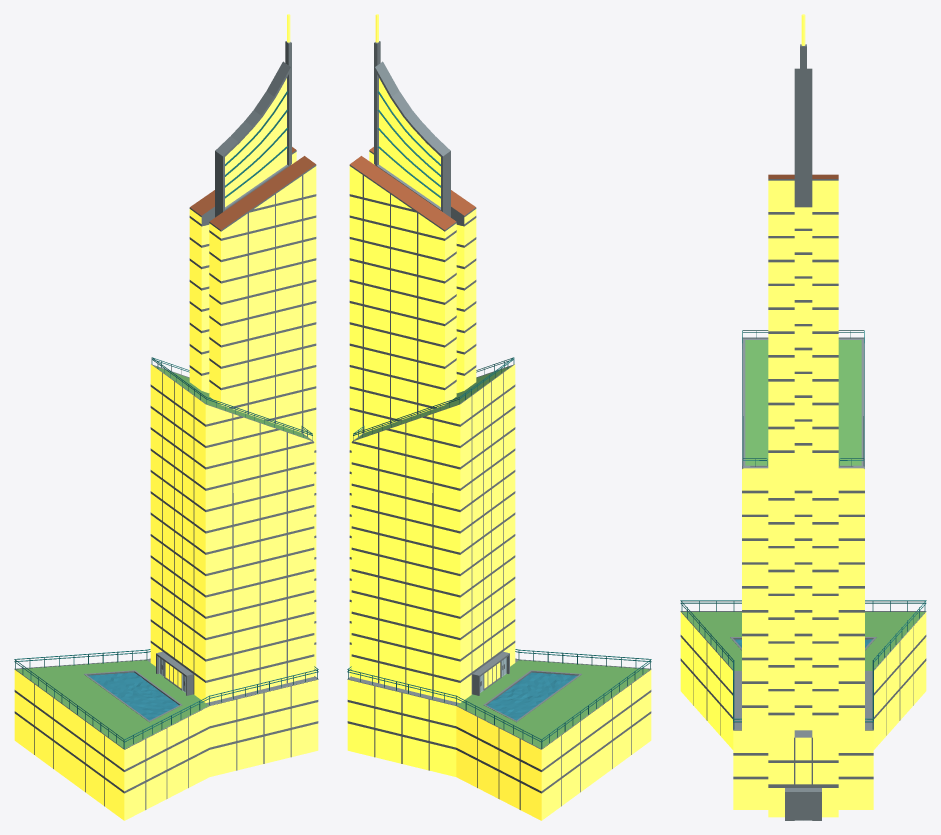
File: SM_skyscraper_07.glb
The picture shows the model from 3 angles, left to right: view 1: azimuth 30°, elevation 25°; view 2: azimuth 150°, elevation 25°; view 3: azimuth 270°, elevation 25°; orthographic projection. The views are drawn at different scales.
Visible parts, largest first — view 1: SM_skyscraper_07; view 2: SM_skyscraper_07; view 3: SM_skyscraper_07.
Boxes of the visible parts, <box> form: SM_skyscraper_07: <box>14,14,318,820</box>; SM_skyscraper_07: <box>347,14,651,820</box>; SM_skyscraper_07: <box>680,14,926,820</box>.
Bounding box in the file's own units: 19.27 × 55.1 × 15.45.
2 materials, 1 textured.
